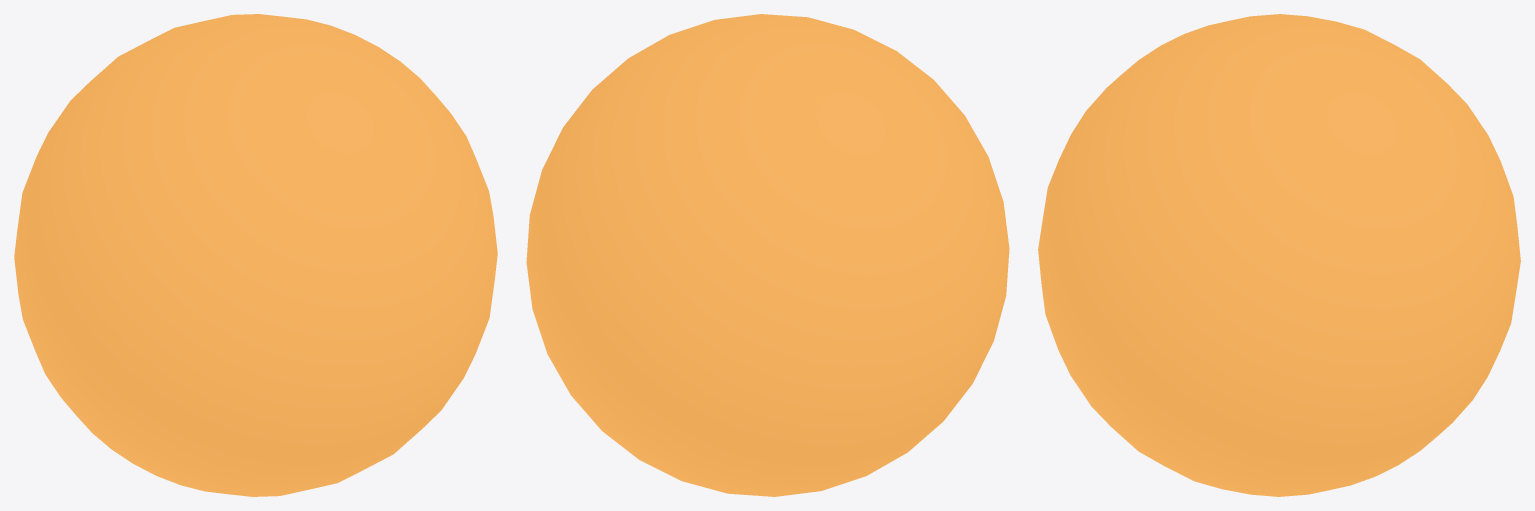
Rendered from terragira.glb.
3 views of the same model, side by side, from view 1: azimuth 30°, elevation 25°; view 2: azimuth 150°, elevation 25°; view 3: azimuth 270°, elevation 25° (orthographic).
Parts seen in each view (by area): view 1: earth; view 2: earth; view 3: earth.
Boxes of the visible parts, left/top/right/bottom form: earth: left=14, top=14, right=497, bottom=496; earth: left=526, top=14, right=1009, bottom=496; earth: left=1038, top=14, right=1520, bottom=496.
Bounding box in the file's own units: 19.91 × 19.96 × 19.99.
